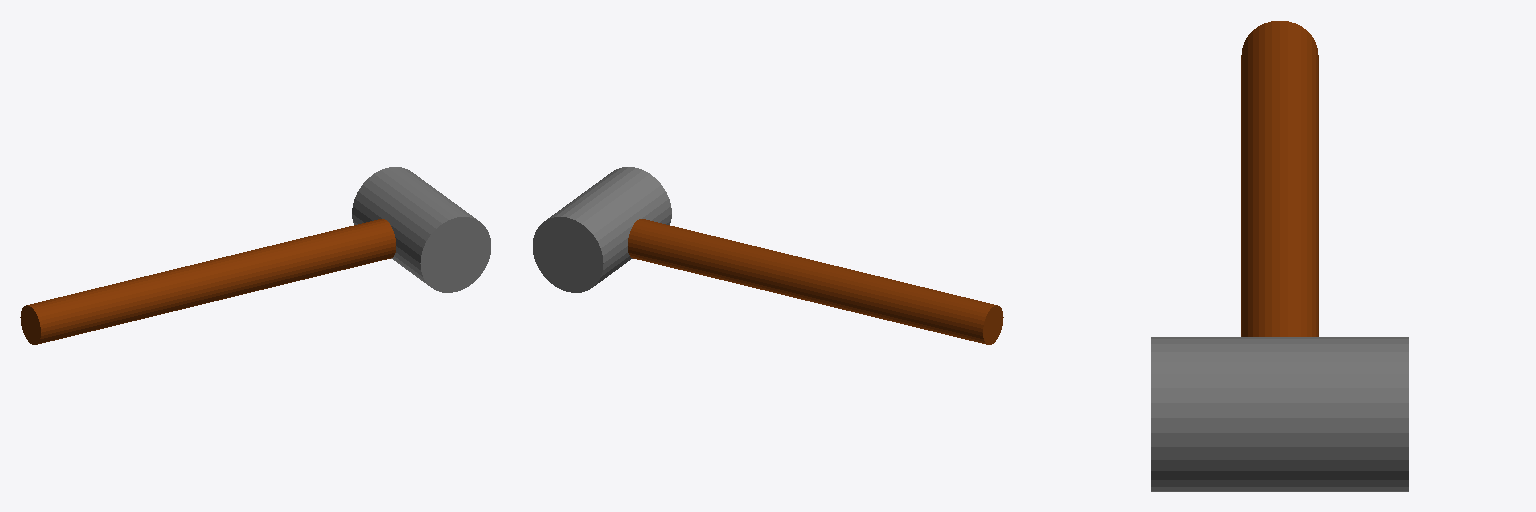
URDF robot description (cylindrical_hammer):
<?xml version="1.0"?>
<robot name="cylindrical_hammer">

  <link name="hammer">
    <!-- Handle -->
    <visual>
      <origin xyz="0 0 0" rpy="0 -1.5707963267948966 0"/>
      <geometry>
        <cylinder radius="0.015" length="0.3"/>
      </geometry>
      <material name="brown">
        <color rgba="0.55 0.27 0.07 1.0"/>
      </material>
    </visual>
    <collision>
      <origin xyz="0 0 0" rpy="0 -1.5707963267948966 0"/>
      <geometry>
        <cylinder radius="0.015" length="0.3"/>
      </geometry>
    </collision>

    <!-- Head -->
    <visual>
      <origin xyz="0.18 0 0" rpy="1.5707963267948966 0 0"/>
      <geometry>
        <cylinder radius="0.03" length="0.1"/>
      </geometry>
      <material name="gray">
        <color rgba="0.5 0.5 0.5 1.0"/>
      </material>
    </visual>
    <collision>
      <origin xyz="0.18 0 0" rpy="1.5707963267948966 0 0"/>
      <geometry>
        <cylinder radius="0.03" length="0.1"/>
      </geometry>
    </collision>

    <inertial>
      <mass value="0.30000000000000004"/>
      <inertia ixx="0.0001" iyy="0.0001" izz="0.0001" ixy="0" ixz="0" iyz="0"/>
    </inertial>
  </link>

</robot>

--- Facts derived from the render (not from the file) ---
Views: 3 orthographic renders of the robot side by side, from view 1: azimuth 30°, elevation 25°; view 2: azimuth 150°, elevation 25°; view 3: azimuth 270°, elevation 25°.
Model cylindrical_hammer with 1 links and 0 joints (none), rooted at hammer, posed all joints at 0.
Visible links, largest first — view 1: hammer; view 2: hammer; view 3: hammer.
Link boxes in pixels (left/top/right/bottom): hammer: left=20, top=167, right=490, bottom=344; hammer: left=533, top=167, right=1003, bottom=344; hammer: left=1151, top=21, right=1408, bottom=491.
Bounding box of the posed robot: 0.36 × 0.1 × 0.06 m (x, y, z).
Geometry: primitives only (box / cylinder / sphere), no mesh files.
